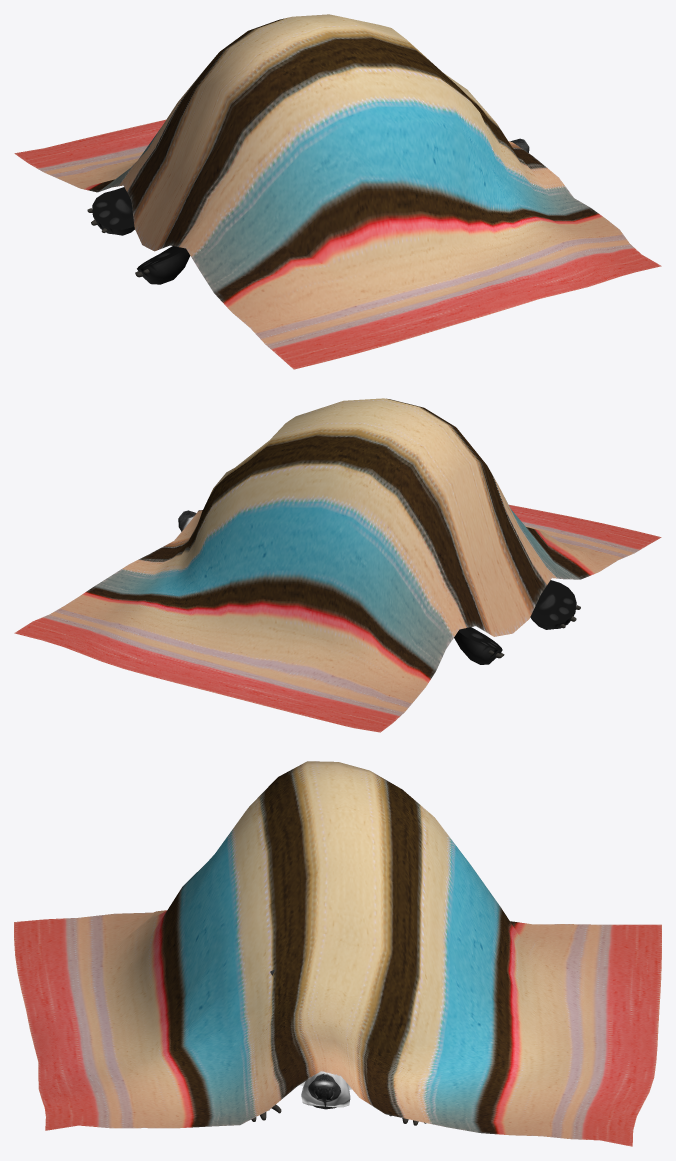
The model's file is assets_carpet_hiding.fbx.
3 renders of one model, top to bottom at view 1: azimuth 30°, elevation 25°; view 2: azimuth 150°, elevation 25°; view 3: azimuth 270°, elevation 25°, orthographic. The views are drawn at different scales.
Parts seen in each view (by area): view 1: assets_carpet_bump, assets_Panda_under; view 2: assets_carpet_bump, assets_Panda_under; view 3: assets_carpet_bump, assets_Panda_under.
Part boxes in pixels (x1,y1,x2,y2): assets_carpet_bump: (14, 14, 661, 369); assets_Panda_under: (87, 138, 529, 284); assets_carpet_bump: (14, 398, 661, 732); assets_Panda_under: (178, 510, 580, 664); assets_carpet_bump: (14, 761, 661, 1146); assets_Panda_under: (251, 969, 426, 1125).
Size of the model in its own units: 23.44 by 10.57 by 26.43.
